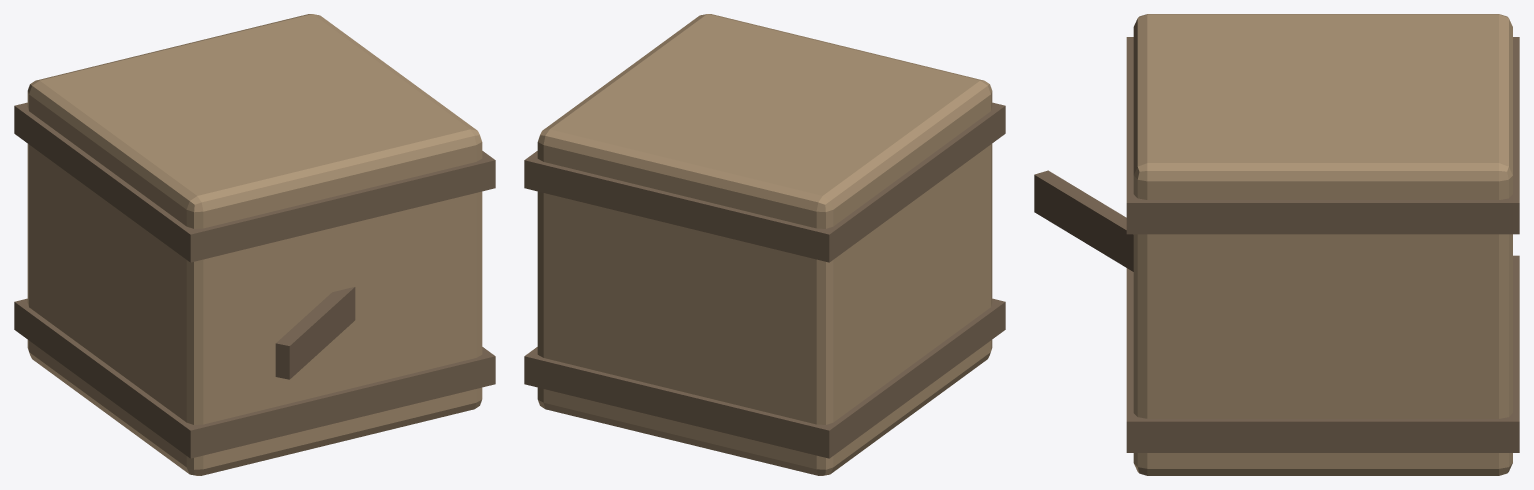
Rendered from prop_crate.glb.
The picture shows the model from 3 angles, left to right: view 1: azimuth 30°, elevation 25°; view 2: azimuth 150°, elevation 25°; view 3: azimuth 270°, elevation 25°; orthographic projection. The views are drawn at different scales.
Parts seen in each view (by area): view 1: prop_crate; view 2: prop_crate; view 3: prop_crate.
Part boxes in pixels (bbox=[...]): prop_crate: bbox=[14, 14, 495, 475]; prop_crate: bbox=[524, 14, 1005, 475]; prop_crate: bbox=[1034, 14, 1519, 475].
Bounding box in the file's own units: 1.14 × 1 × 1.41.
